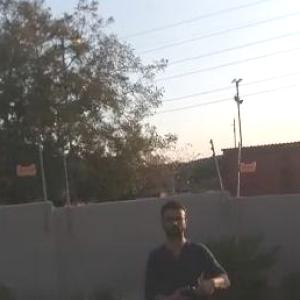follow: (137, 185, 235, 299)
